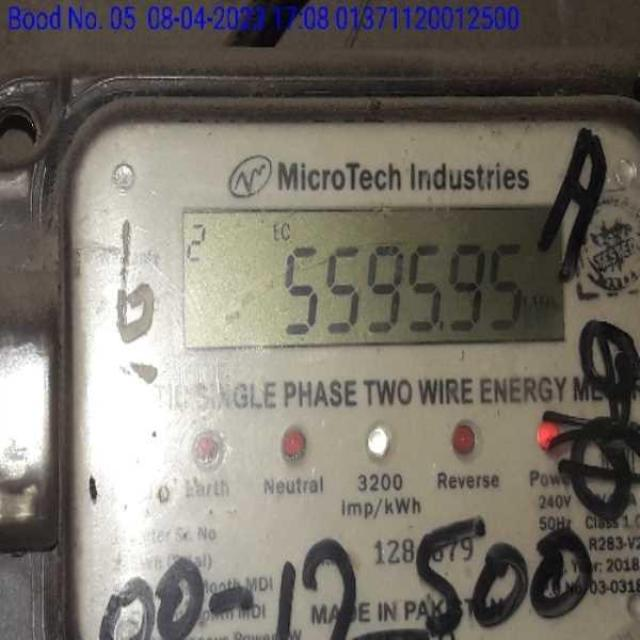5: (318, 242, 363, 341), (277, 243, 321, 344), (487, 243, 527, 337), (406, 238, 440, 338)
9: (446, 243, 487, 340), (365, 240, 405, 338)
Digital meter: (174, 207, 563, 343)
point: (438, 321, 452, 338)
